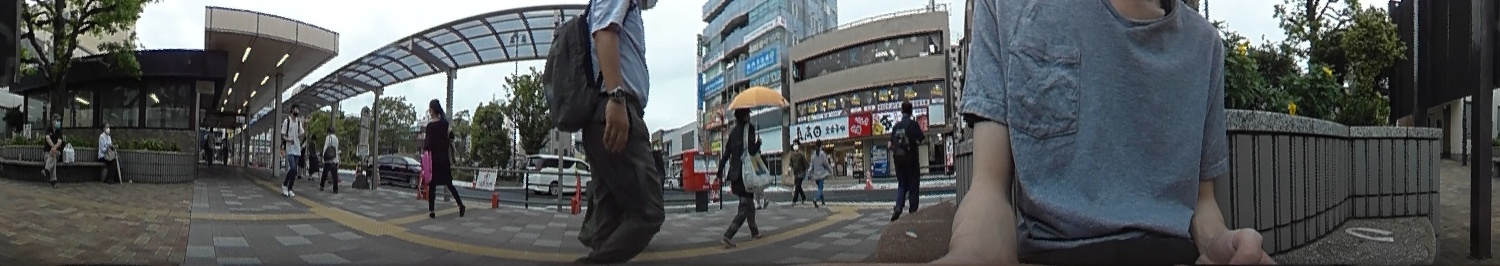difficult_person: (203, 123, 216, 170), (307, 131, 320, 176)
person: (714, 101, 764, 248), (417, 97, 467, 220), (886, 99, 928, 216), (37, 112, 67, 187), (278, 101, 301, 197), (96, 119, 127, 188), (318, 124, 342, 198), (808, 136, 831, 205), (786, 140, 809, 206)
